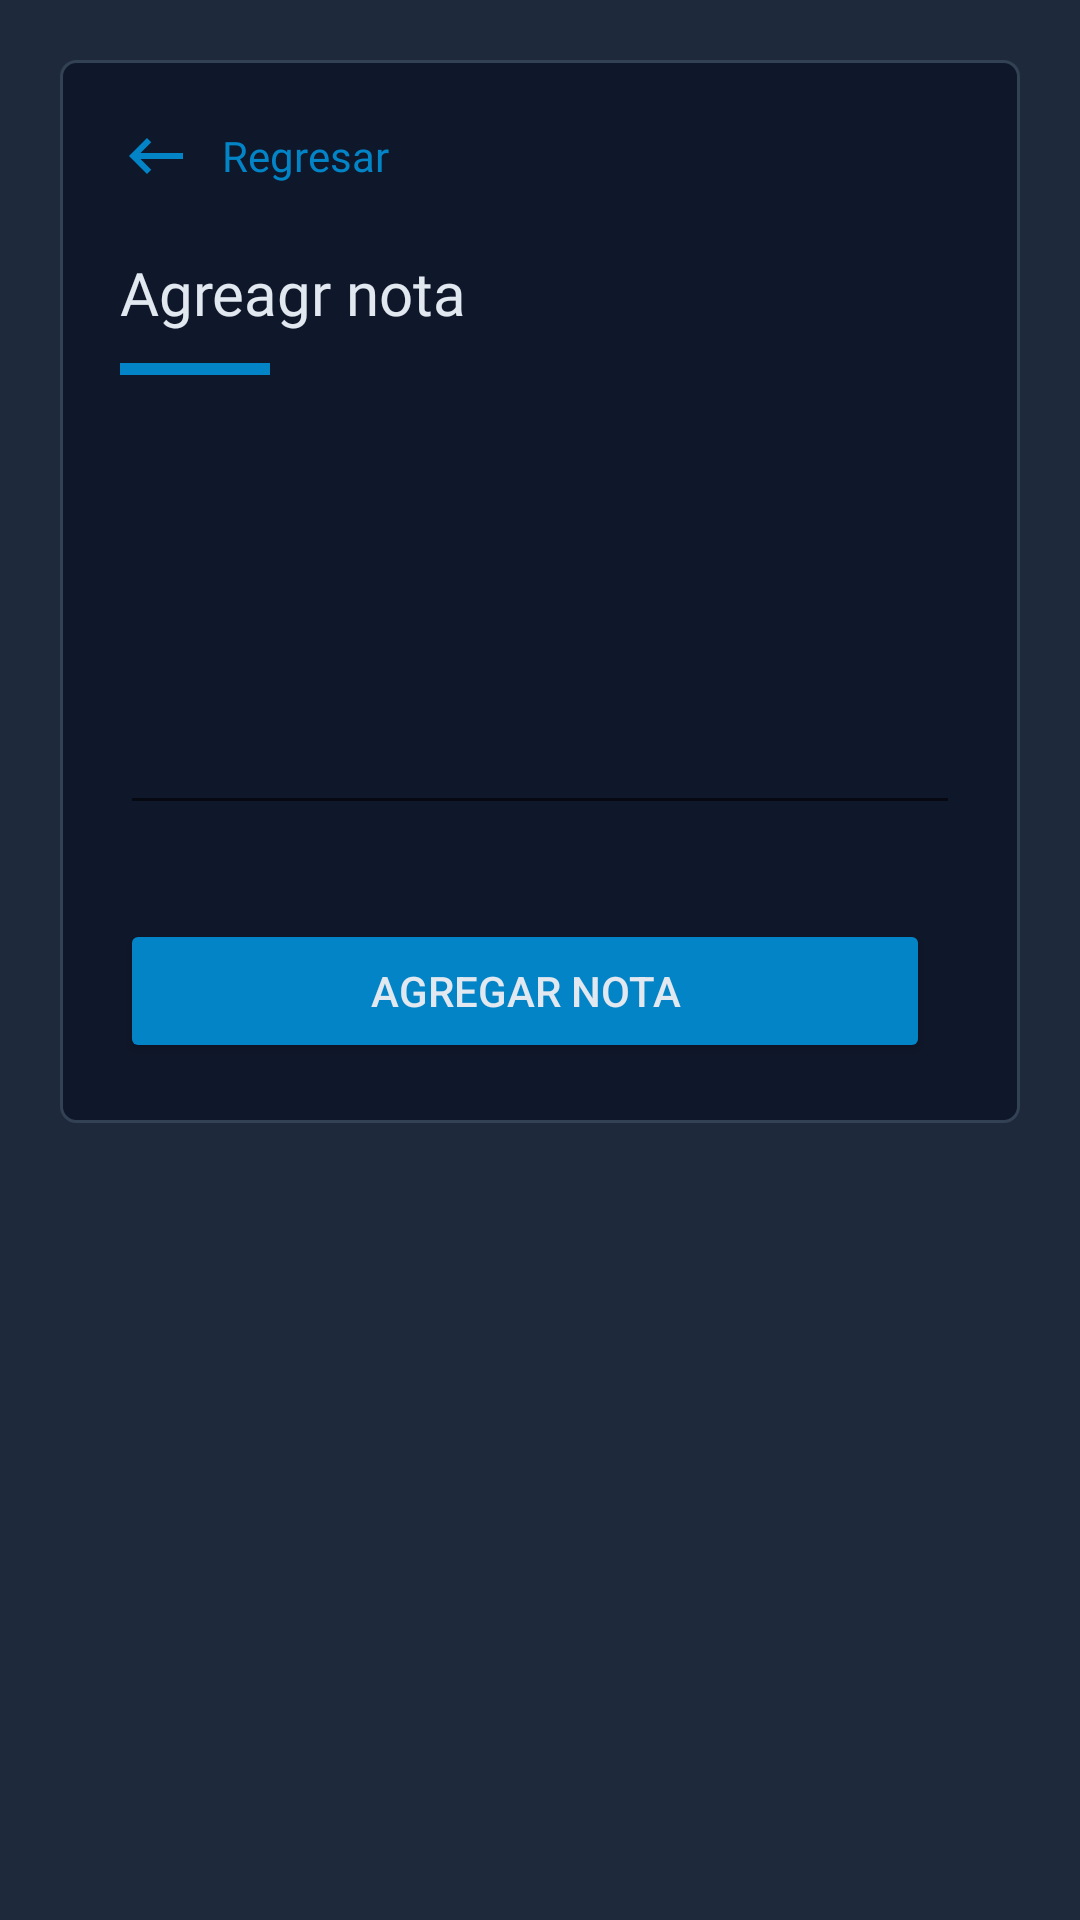

Named icons in this screenshot (1080w x 1920h) and their centers, (x=x, y=y):
keyboard backspace: (x=156, y=156)
